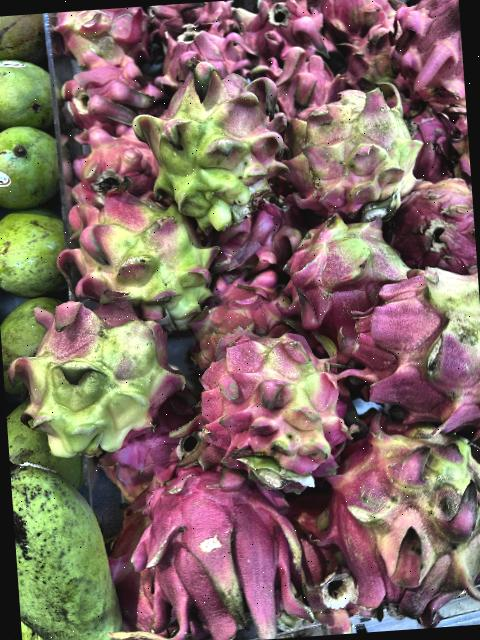buah-naga-belum-matang: (322, 415, 480, 630), (186, 317, 356, 497), (22, 289, 188, 446), (137, 65, 289, 226), (273, 80, 428, 232), (62, 188, 222, 332), (342, 260, 480, 426), (265, 204, 405, 320), (341, 29, 393, 90)
buah-naga-matang: (125, 459, 301, 640), (60, 46, 172, 144), (390, 173, 478, 281), (387, 0, 465, 109), (66, 125, 164, 196), (55, 6, 158, 62), (234, 0, 320, 61), (152, 30, 244, 84), (146, 0, 236, 37), (314, 0, 398, 29)
